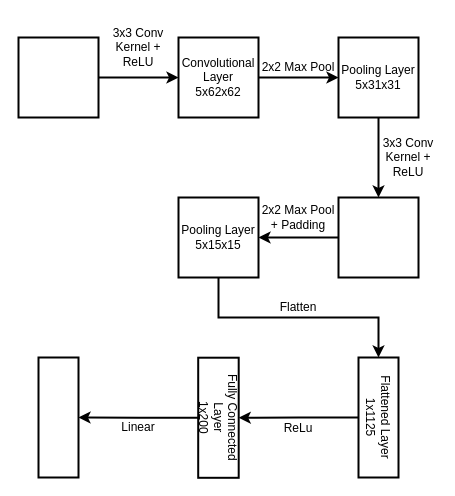
Image size: 455x496. Some labels were removed from this diagram. The centre of each missing label's shape, as x and y in pixels:
Convolutional Layer 5x29x29: the point at 378,237
Input Image 1x64x64: the point at 58,77
Output Layer 1x10: the point at 58,417
